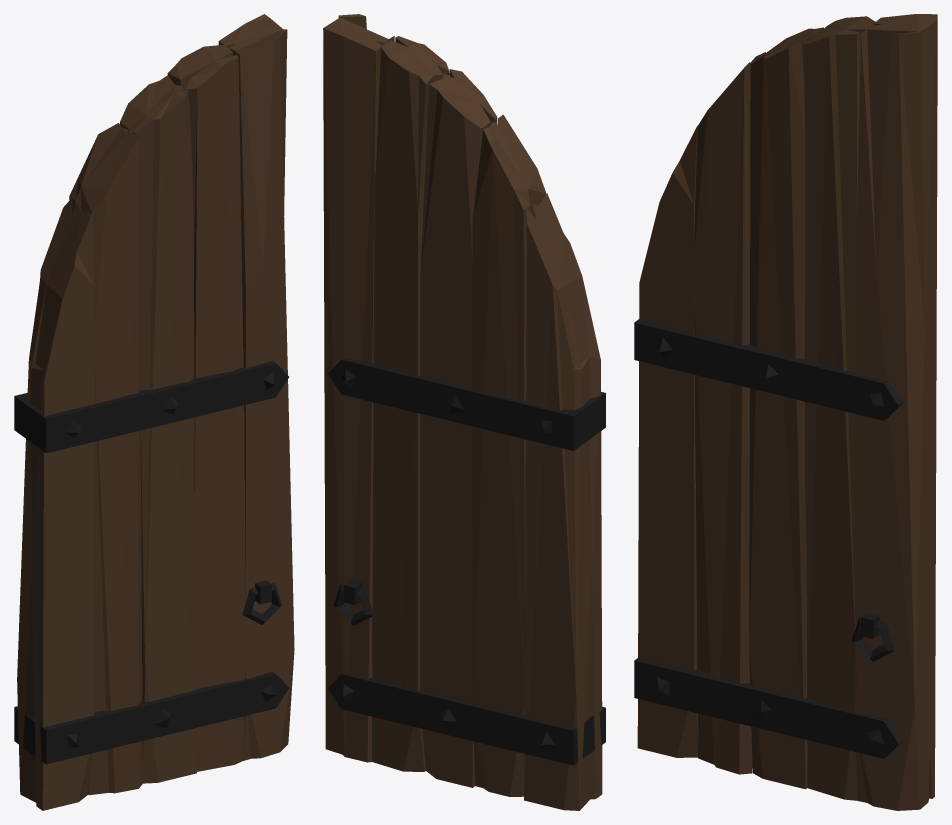
File: Door_Big.fbx
3 renders of one model, left to right at view 1: azimuth 30°, elevation 25°; view 2: azimuth 150°, elevation 25°; view 3: azimuth 330°, elevation 25°, orthographic. The views are drawn at different scales.
Parts seen in each view (by area): view 1: Door_Big; view 2: Door_Big; view 3: Door_Big.
Part boxes in pixels (left/top/right/bottom): Door_Big: left=14, top=14, right=294, bottom=810; Door_Big: left=323, top=14, right=605, bottom=810; Door_Big: left=634, top=14, right=937, bottom=810.
Bounding box in the file's own units: 479 × 1293 × 134.
